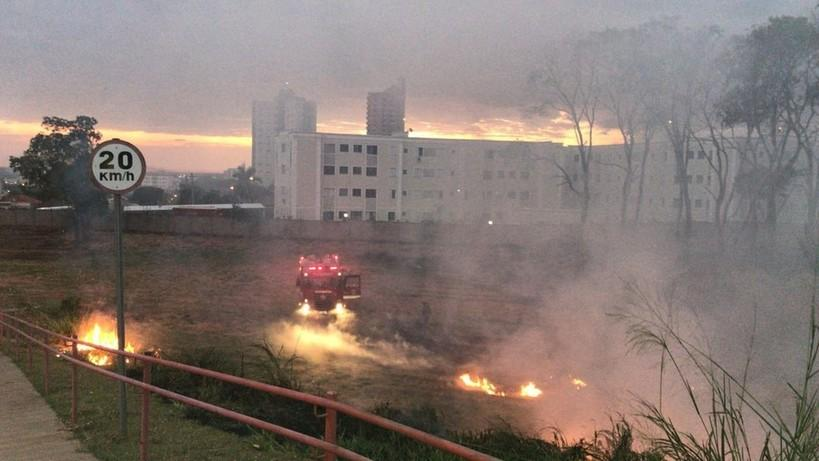fire: (289, 326, 343, 350), (74, 325, 119, 348), (454, 369, 499, 391), (514, 374, 544, 398)
